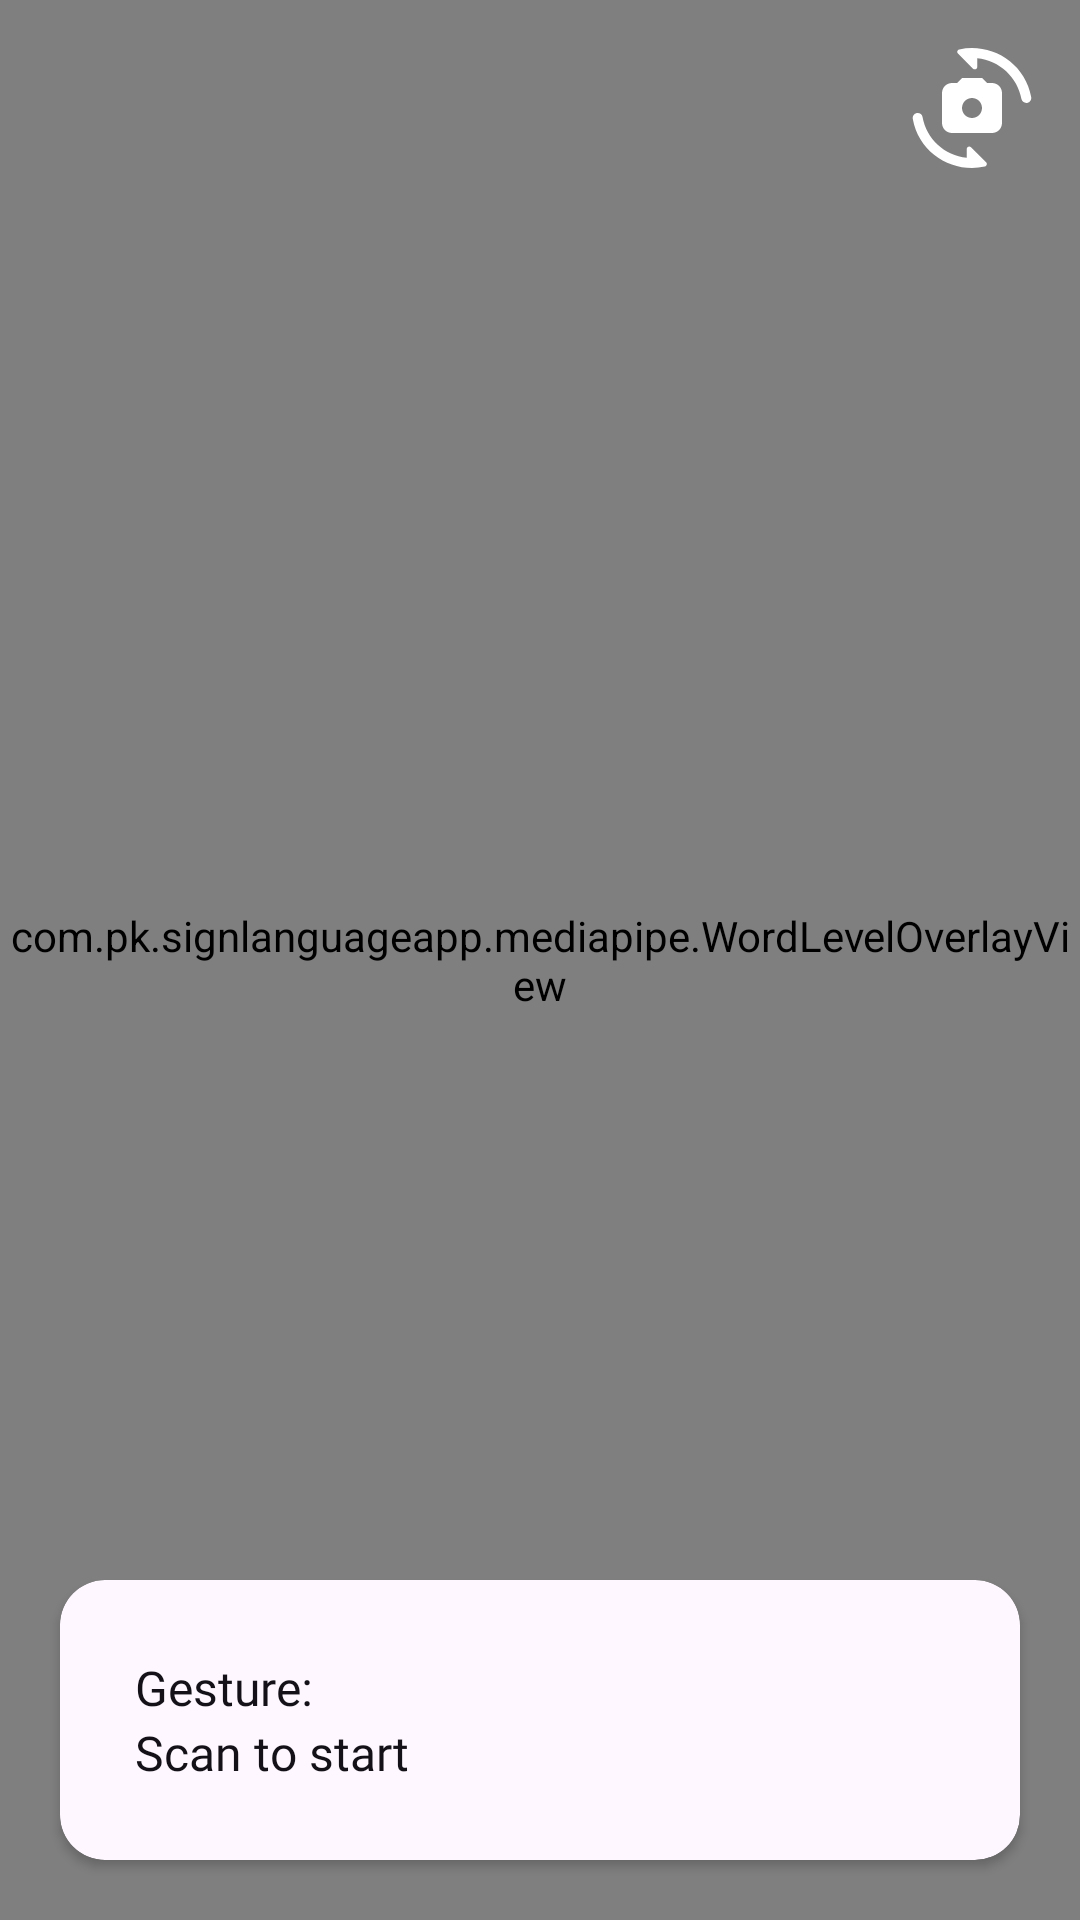

Icons on this 1080 × 1920 Android screen, each with its box as (x1, y1, x2, y2):
switch camera: (912, 48, 1032, 168)
